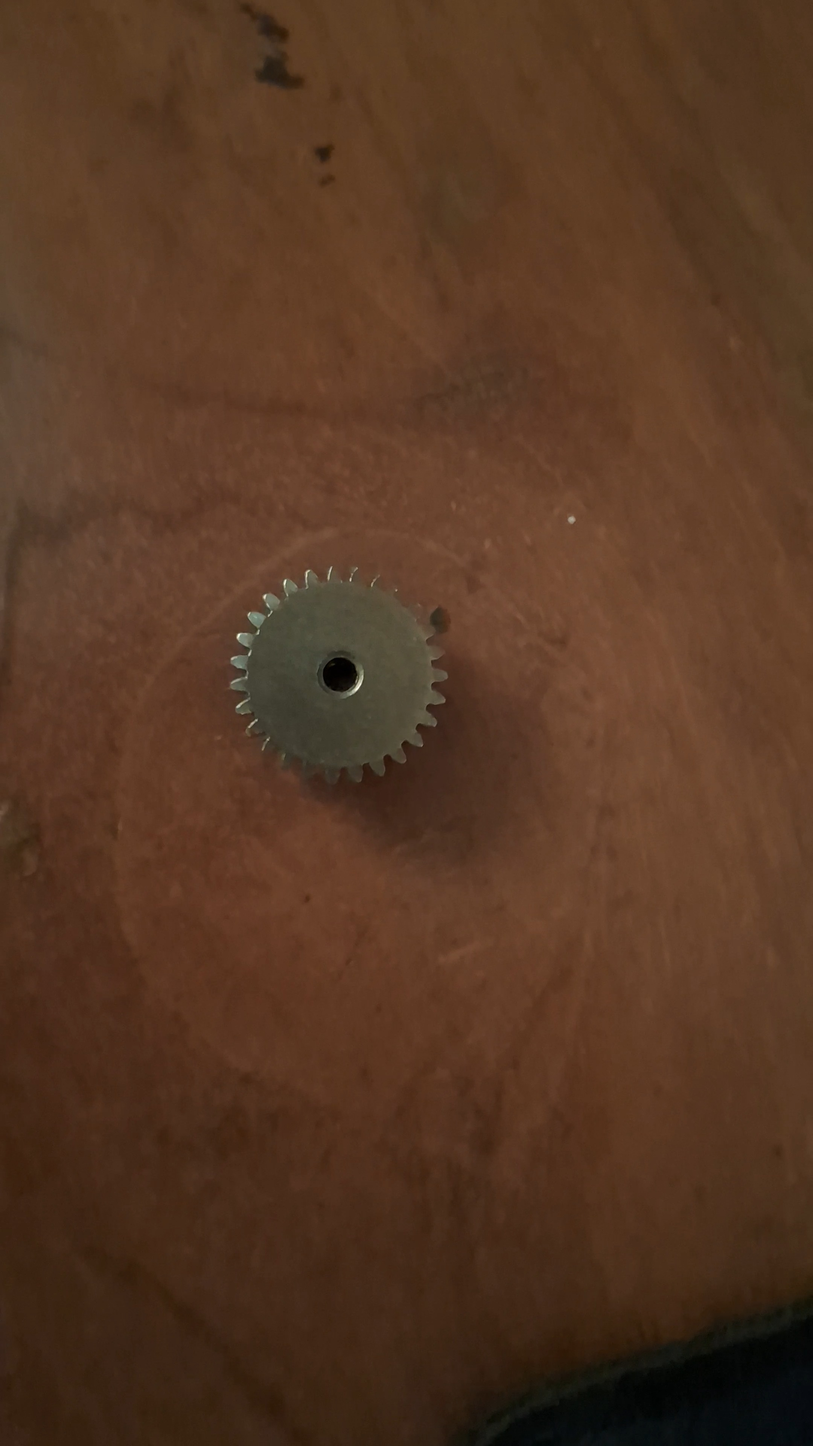spur gear: (231, 569, 447, 782)
